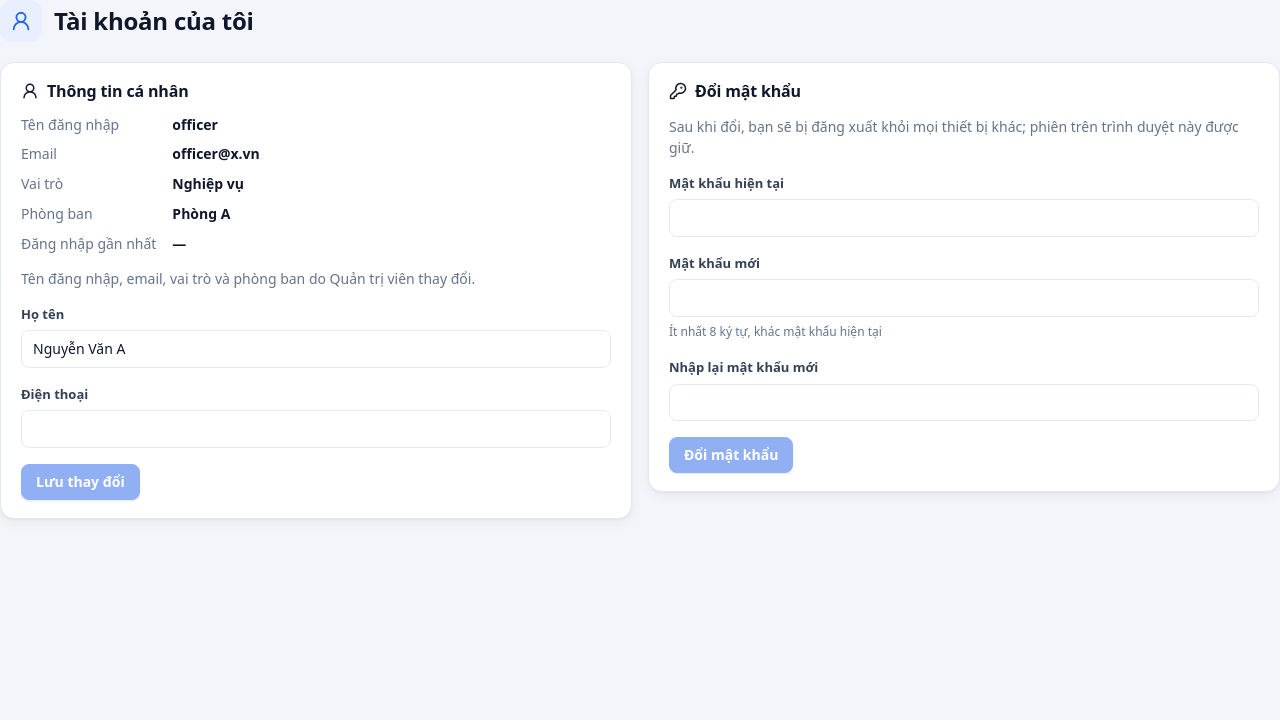
Scenario: Trang Tài khoản của tôi (FR-09) › đổi mật khẩu thành công thì lấy lại phiên (csrf_token mới)
Expected: the text "Phòng A" is shown, [172,204,230,223]
In the password field labelled "Mật khẩu hiện tại": point(964, 218) [669,199,1259,237], type "Password123!"
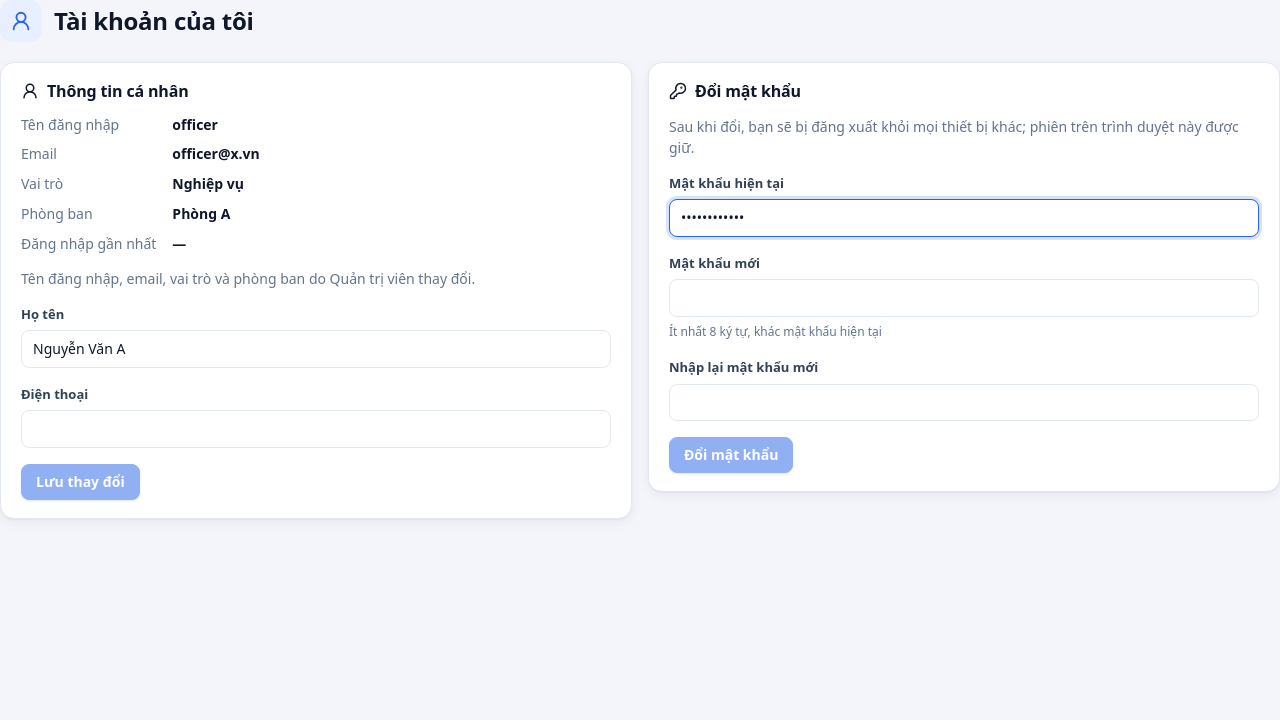
In the password field labelled "Mật khẩu mới": point(964, 298) [669,279,1259,317], type "MatKhauMoi1"
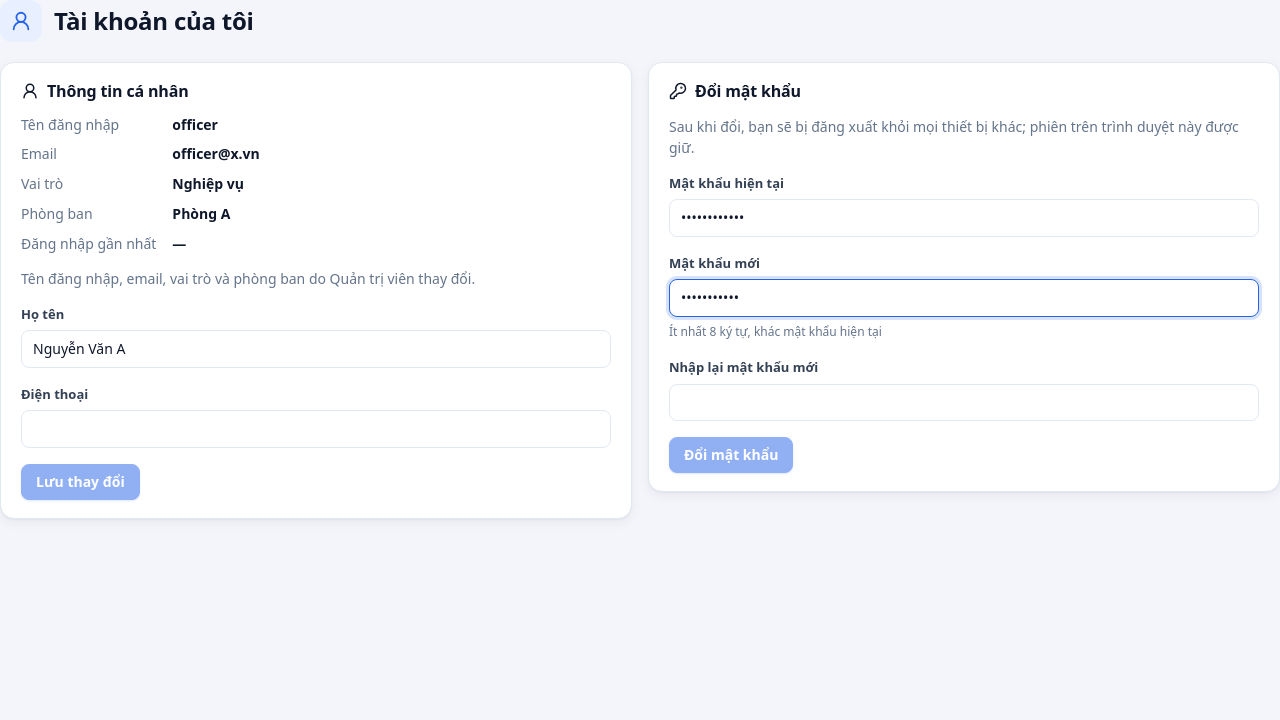
In the password field labelled "Nhập lại mật khẩu mới": point(964, 402) [669,384,1259,421], type "MatKhauMoi1"
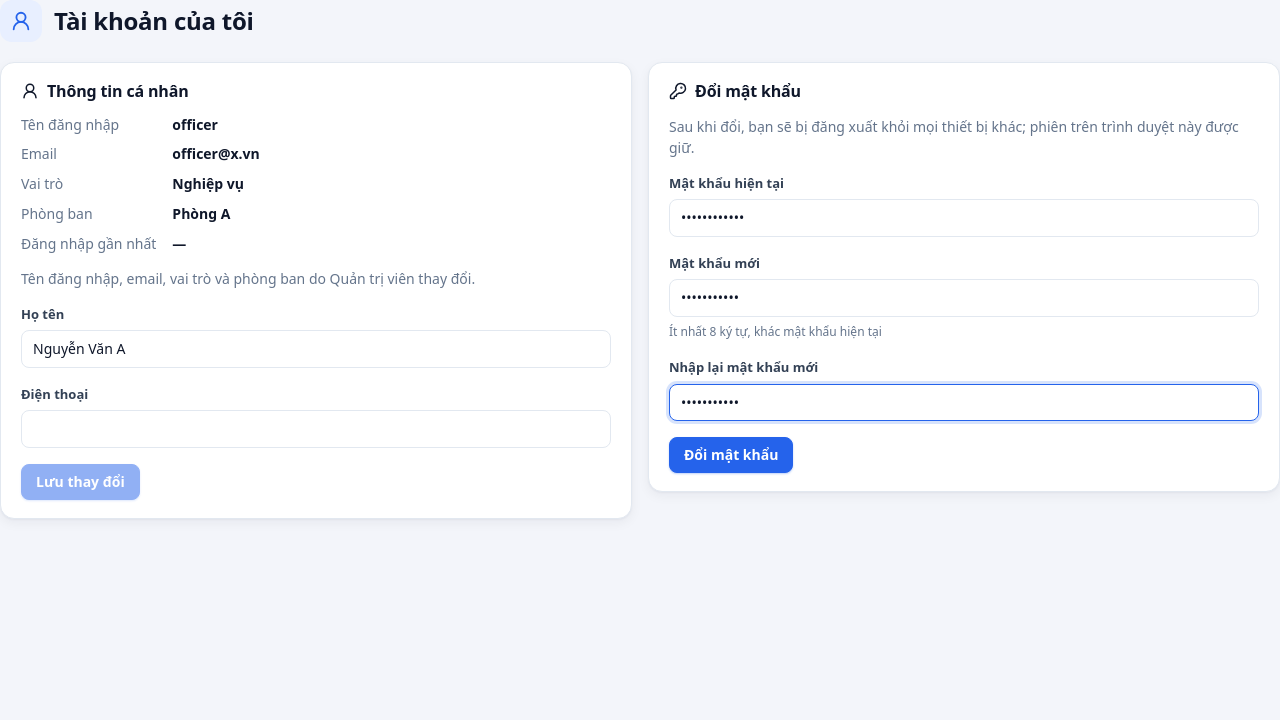
Click the button "Đổi mật khẩu": point(731, 455) [669,437,793,473]
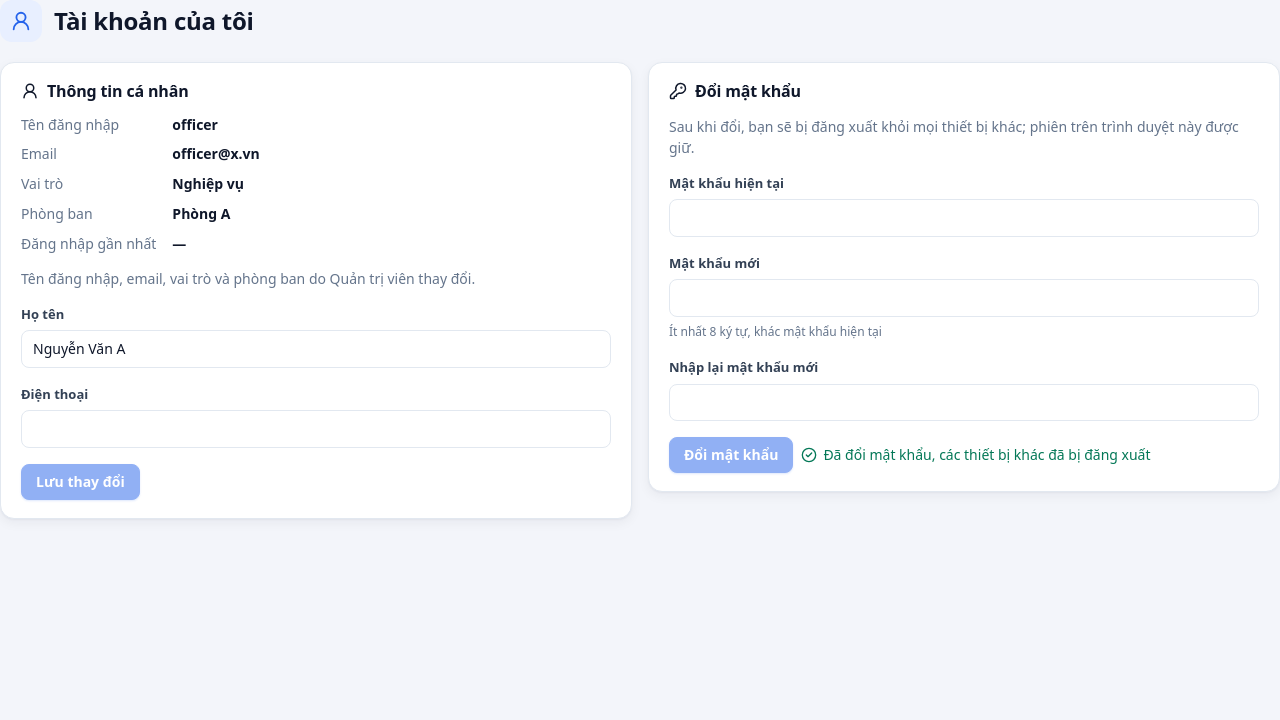
Expected: the text "Đã đổi mật khẩu, các thiết bị khác đã bị đăng xuất" is shown, [801,444,1150,466]
Expected: the password field labelled "Mật khẩu hiện tại" is empty, [669,199,1259,237]
